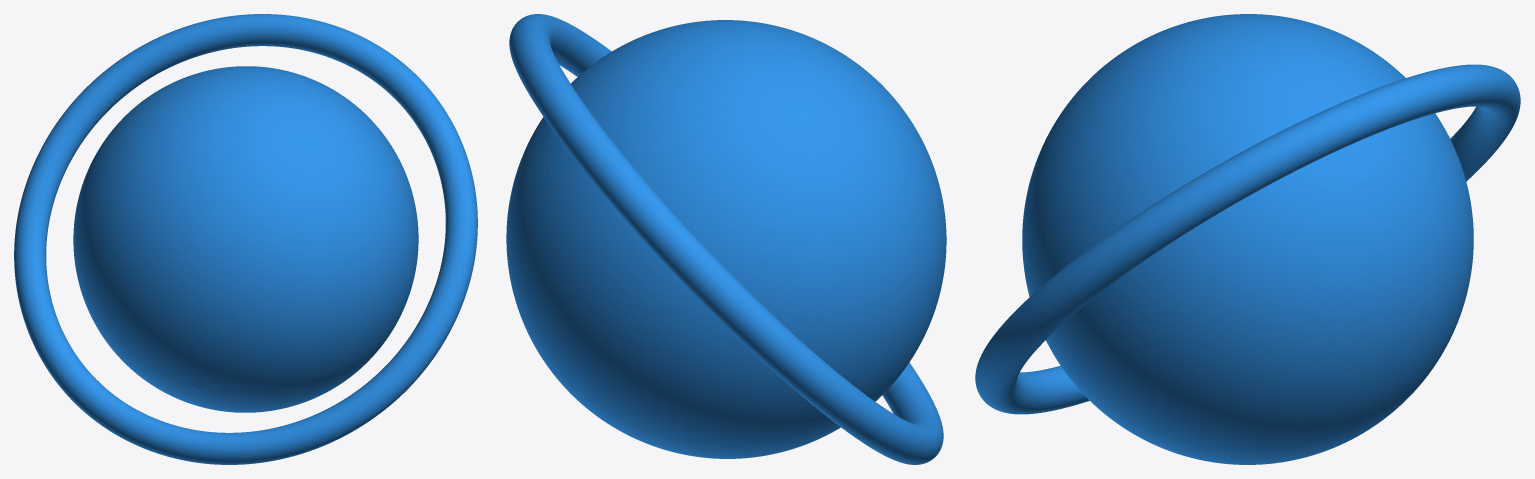
Rendered from uranus.glb.
The picture shows the model from 3 angles, left to right: view 1: azimuth 30°, elevation 25°; view 2: azimuth 150°, elevation 25°; view 3: azimuth 270°, elevation 25°; orthographic projection. The views are drawn at different scales.
Parts seen in each view (by area): view 1: Sphere, BezierCircle; view 2: Sphere, BezierCircle; view 3: Sphere, BezierCircle.
Boxes of the visible parts, x1,y1,x2,y2 form: Sphere: (73,66,418,412); BezierCircle: (14,14,477,464); Sphere: (506,20,946,458); BezierCircle: (509,14,943,464); Sphere: (1022,14,1473,464); BezierCircle: (975,64,1520,414).
Bounding box in the file's own units: 2.68 × 2.36 × 2.77.
